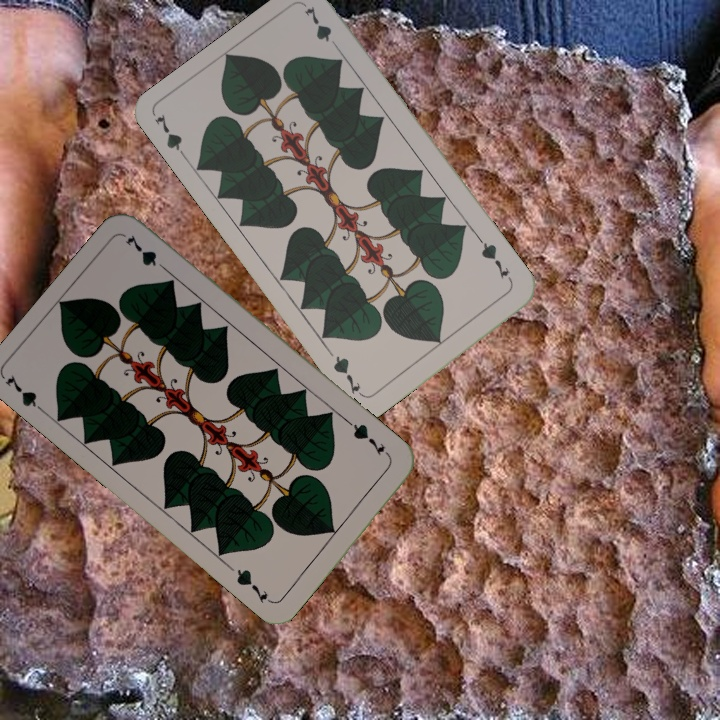G7: (1, 370, 51, 418), (150, 110, 192, 165), (345, 418, 394, 463), (475, 235, 512, 281)
